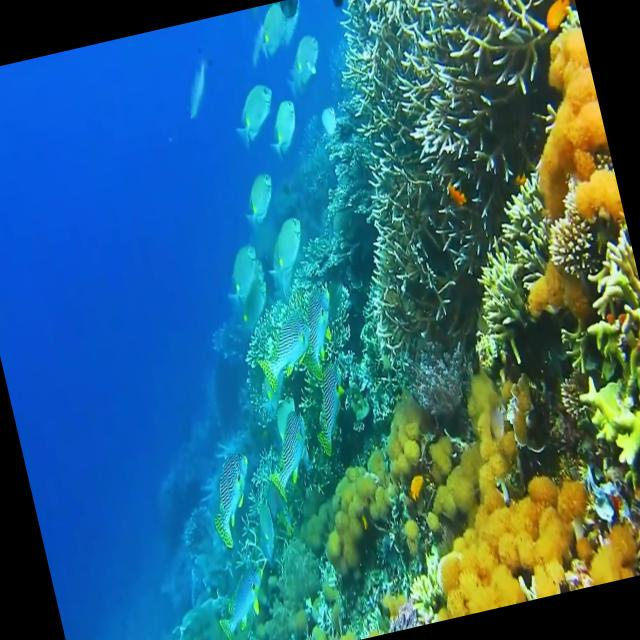fish: (290, 342, 376, 462), (234, 286, 326, 398), (190, 438, 270, 558), (284, 270, 356, 386), (200, 550, 287, 640), (250, 207, 325, 306), (252, 395, 322, 500), (206, 224, 276, 321), (165, 47, 223, 130), (276, 26, 336, 104), (225, 76, 281, 154), (230, 158, 288, 232), (246, 0, 319, 57), (256, 90, 306, 166), (313, 96, 346, 144)
